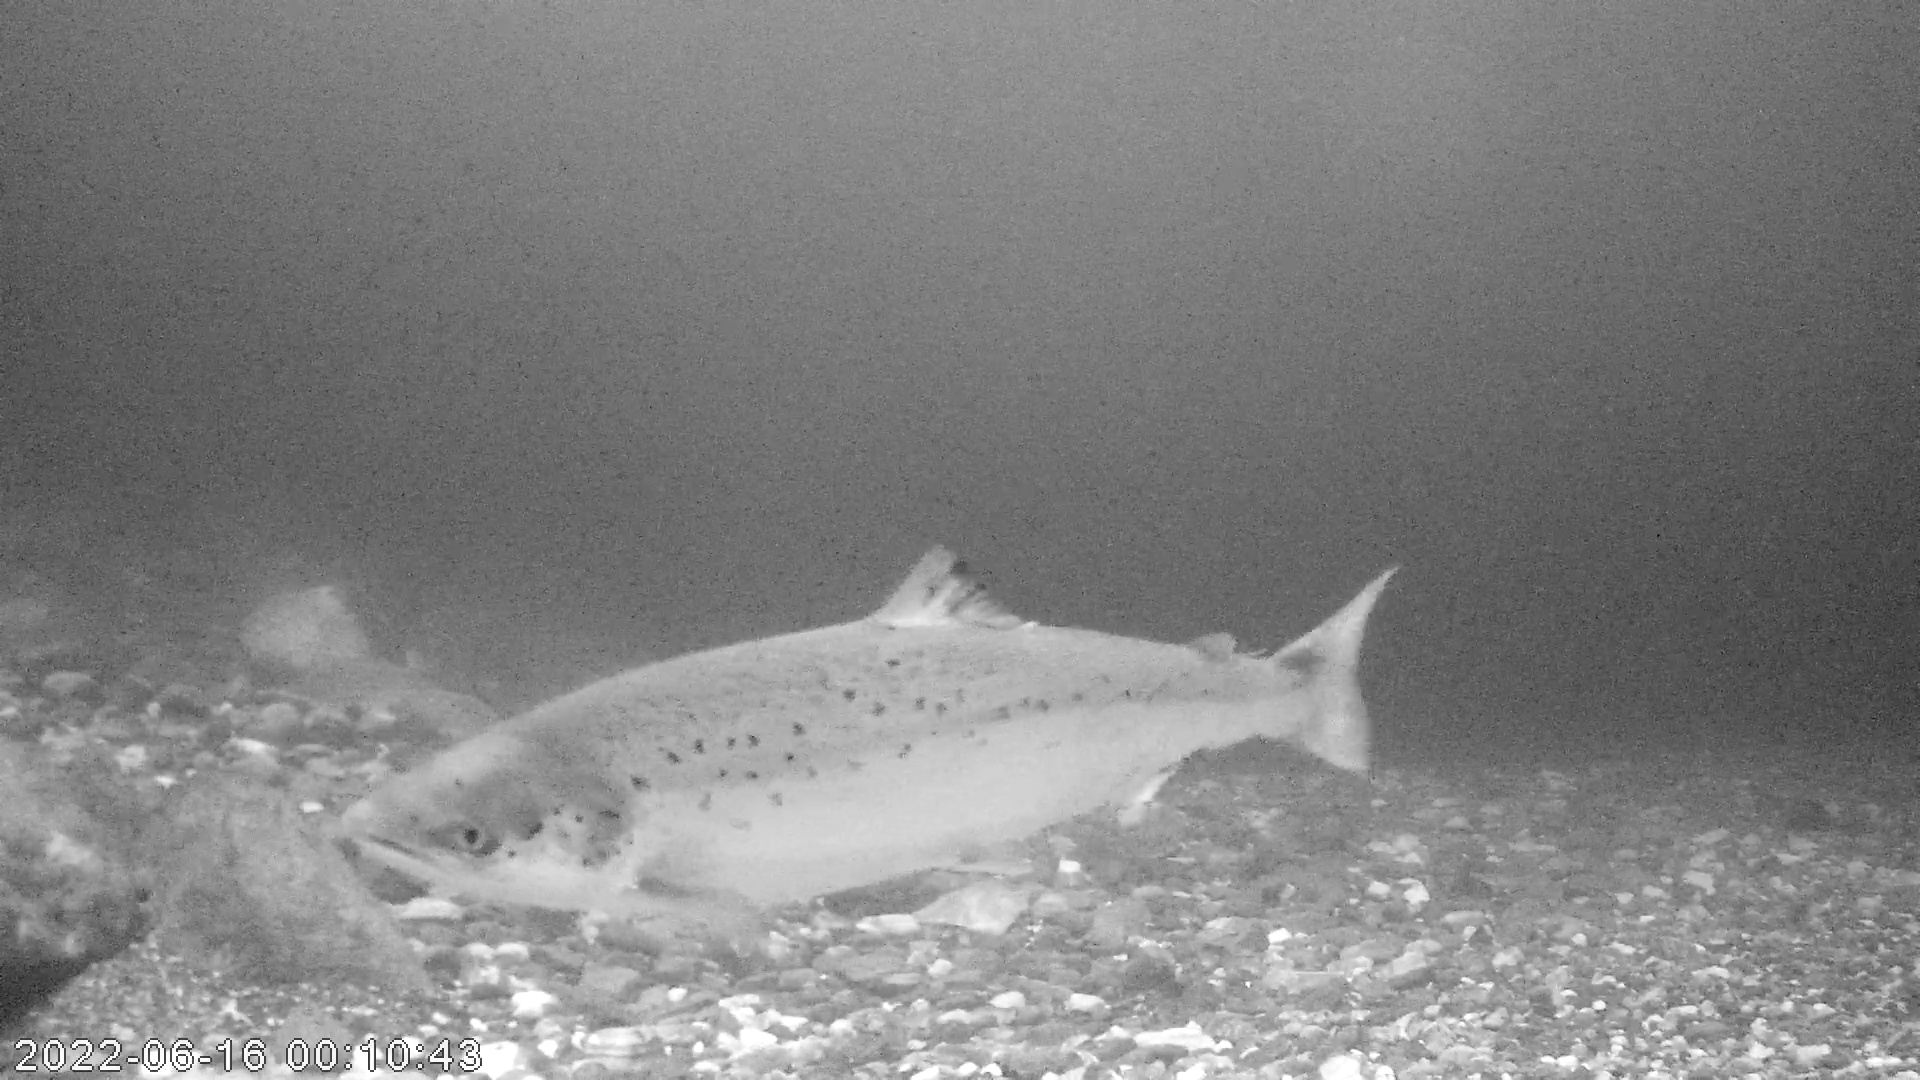salmon: (335, 538, 1400, 943)
